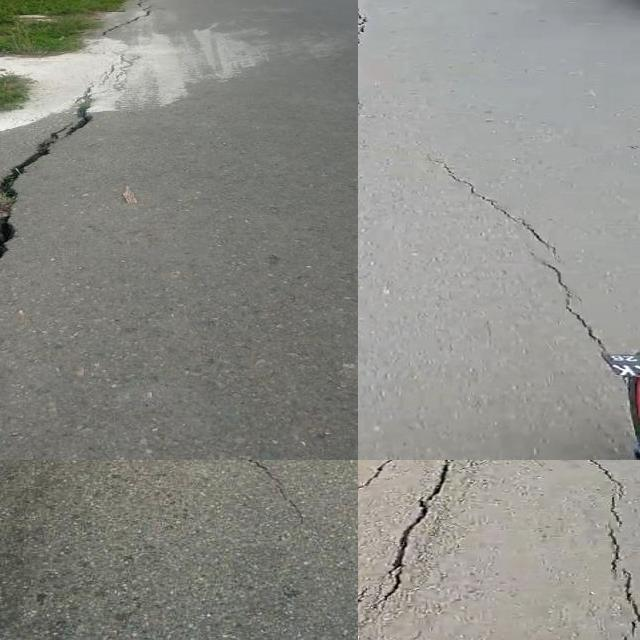Memanjang: (415, 145, 640, 391), (0, 83, 105, 288), (358, 460, 477, 640), (574, 460, 640, 640)
